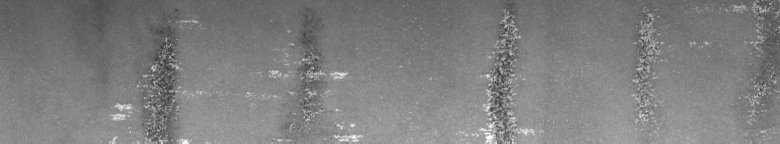hc: (466, 8, 542, 136)
